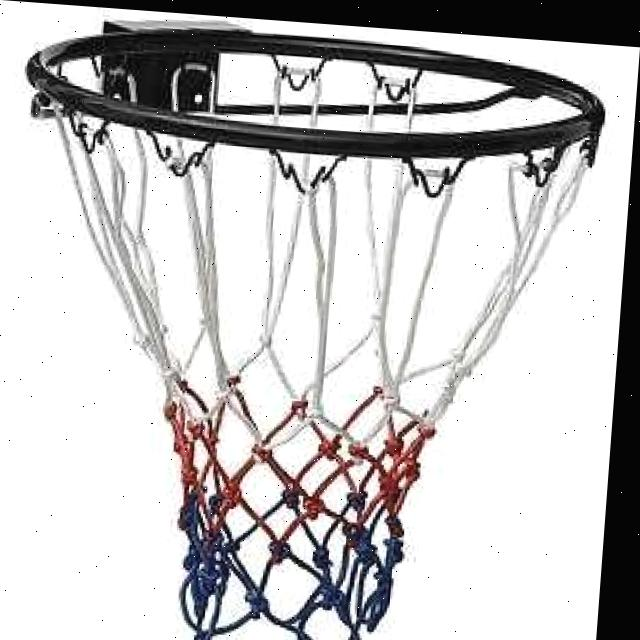hoop: (0, 1, 640, 640)
